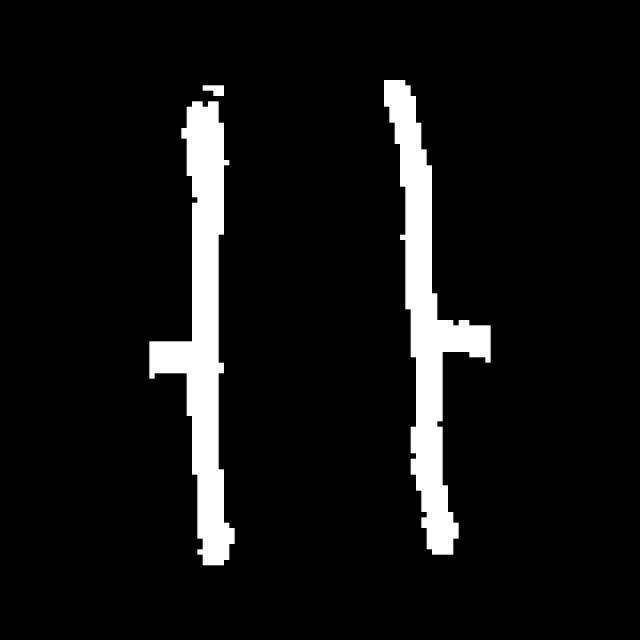capacitor: (171, 79, 474, 572)
